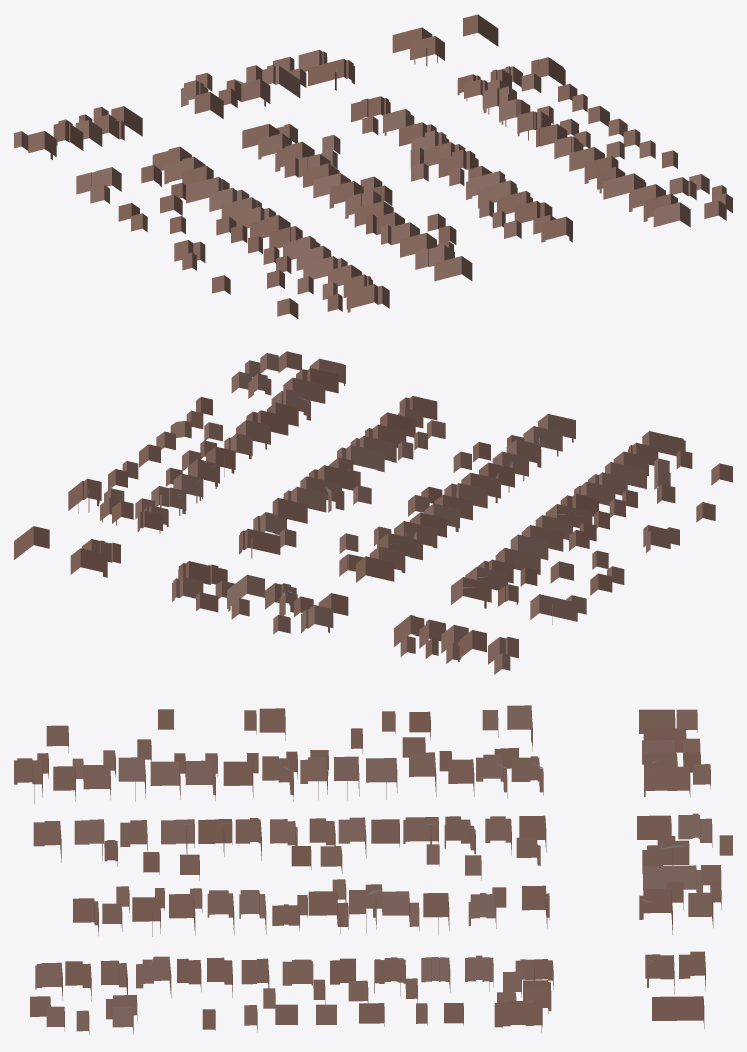
Rendered from c_1640_17823_buildings_residential.glb.
3 renders of one model, top to bottom at view 1: azimuth 30°, elevation 25°; view 2: azimuth 150°, elevation 25°; view 3: azimuth 270°, elevation 25°, orthographic. The views are drawn at different scales.
Visible parts, largest first — view 1: geometry_0; view 2: geometry_0; view 3: geometry_0.
Boxes of the visible parts, x1,y1,x2,y2 form: geometry_0: (14, 14, 732, 318); geometry_0: (14, 351, 732, 674); geometry_0: (14, 705, 732, 1034).
Bounding box in the file's own units: 260 × 9.58 × 256.
